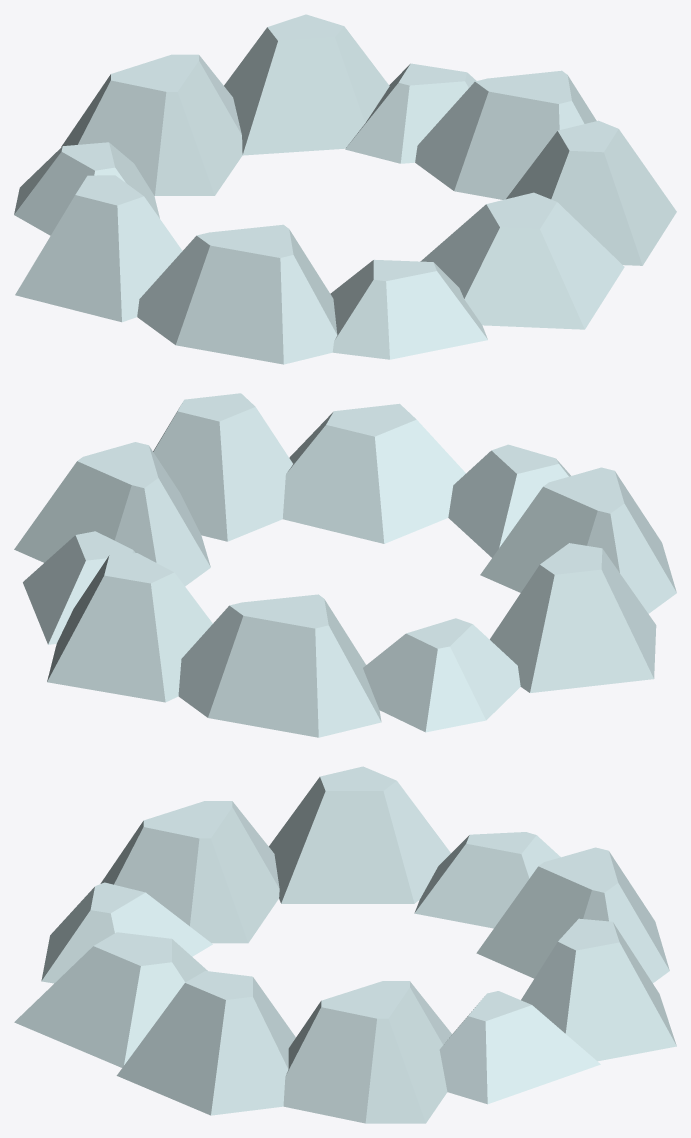
Rendered from campfire_stones.glb.
The picture shows the model from 3 angles, top to bottom: view 1: azimuth 30°, elevation 25°; view 2: azimuth 150°, elevation 25°; view 3: azimuth 270°, elevation 25°; orthographic projection. The views are drawn at different scales.
Visible parts, largest first — view 1: campfire_stones; view 2: campfire_stones; view 3: campfire_stones.
Boxes of the visible parts, left/top/right/bottom form: campfire_stones: left=14, top=14, right=676, bottom=364; campfire_stones: left=14, top=393, right=676, bottom=737; campfire_stones: left=14, top=766, right=676, bottom=1123.
Bounding box in the file's own units: 0.5408 × 0.0778 × 0.5155.
Materials: 1 (1 with a texture image).
